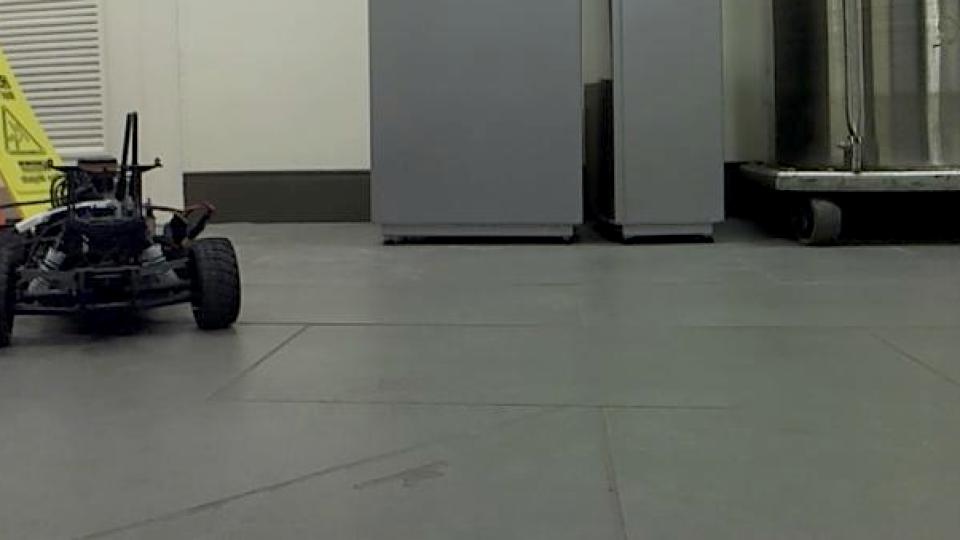car: (0, 109, 246, 353)
